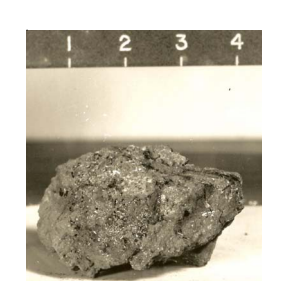Breccia: (46, 130, 249, 275)
